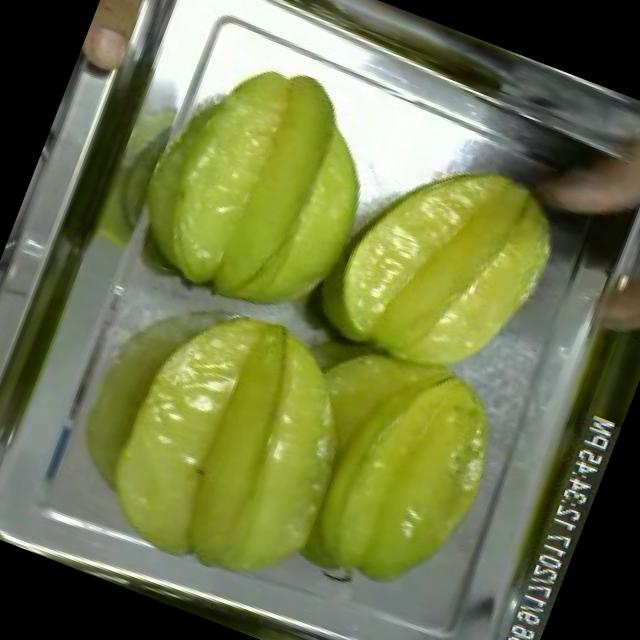fruit: (74, 269, 398, 619), (108, 26, 414, 348), (302, 117, 590, 420), (281, 326, 530, 622), (73, 0, 203, 94)
